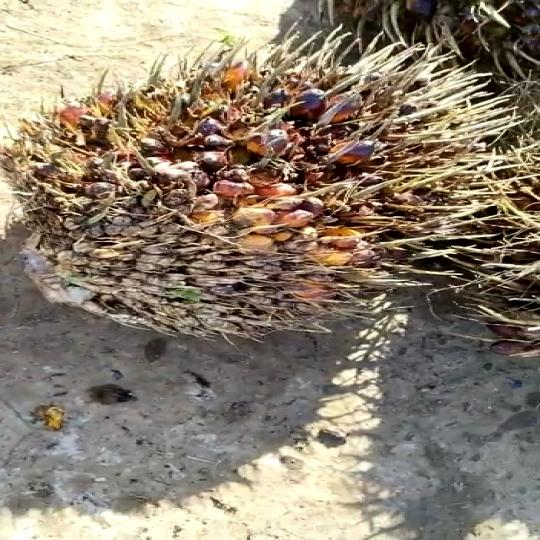terlalu masak: (0, 12, 540, 360)
